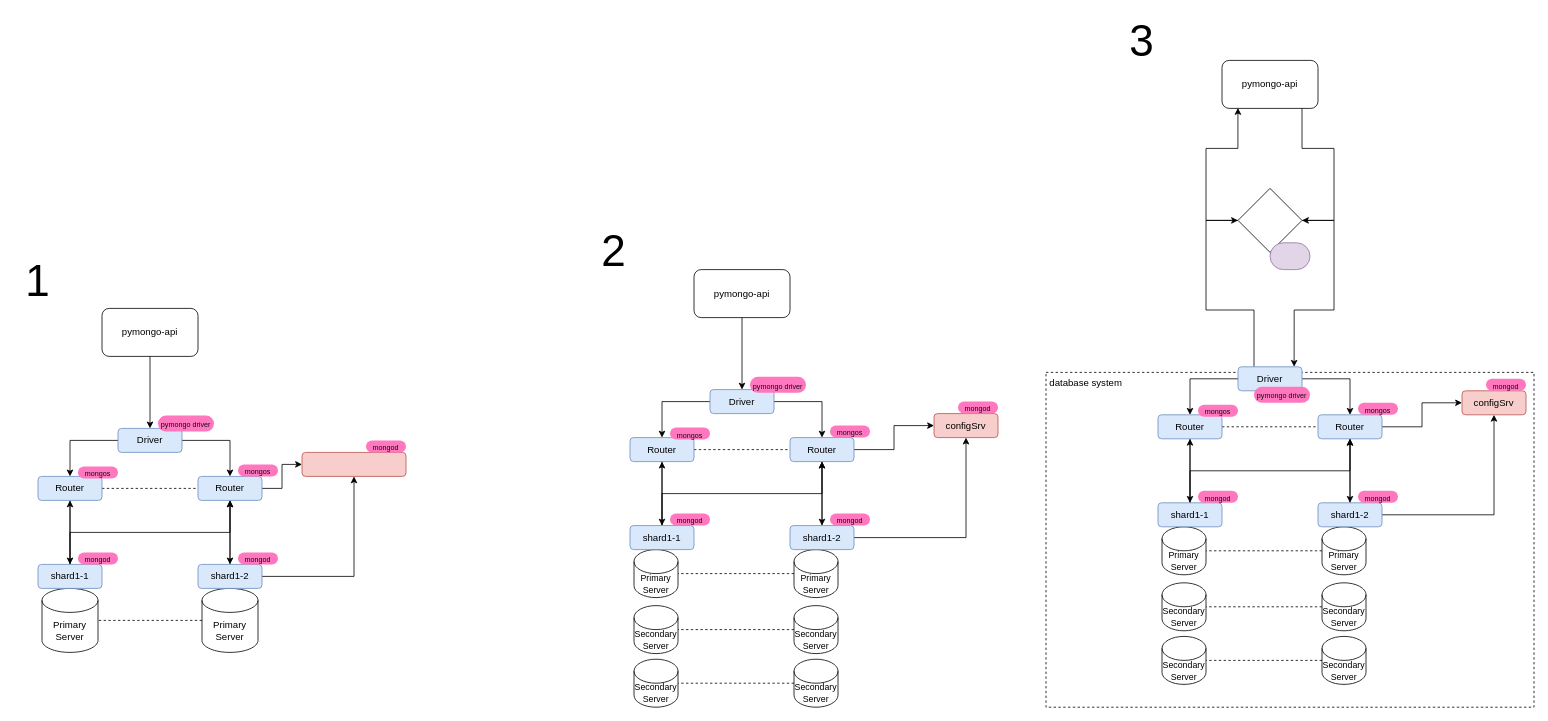
The diagram is 1548 pixels wide and 721 high, and some of its shapes have lost their labels. Each missing label, with the centre of its shape:
"+ Expiration Policy" belongs at (1289,256).
"Configuration Server" belongs at (353,464).
"Redis Cache" belongs at (1269,220).
